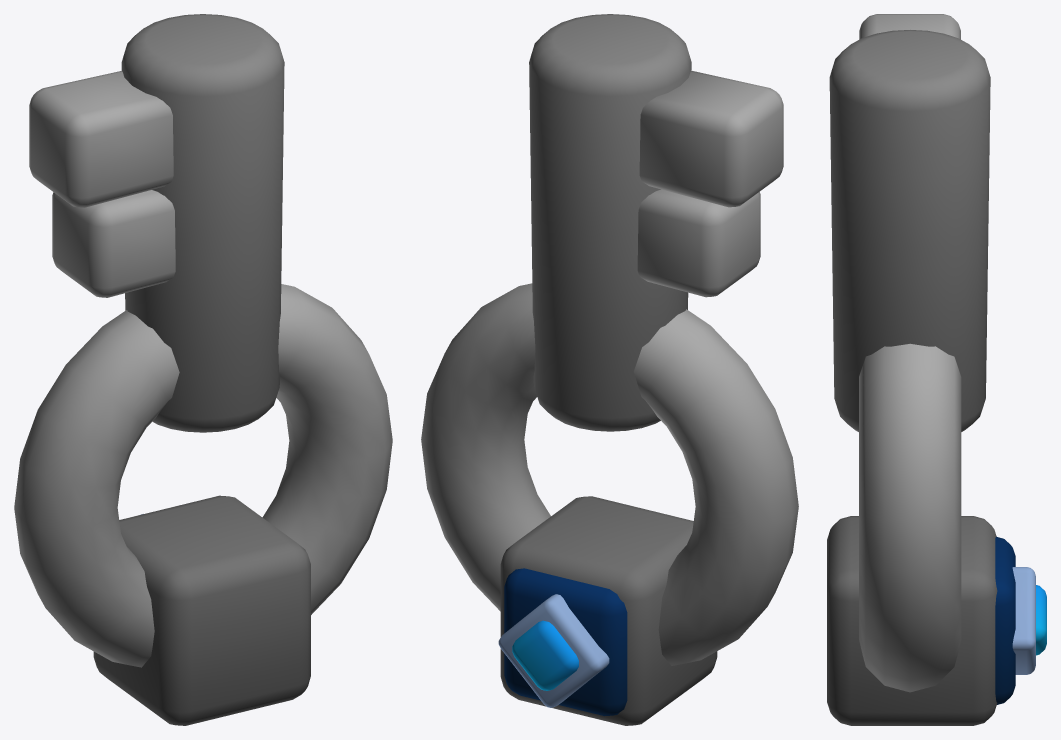
Rendered from Key_V1_0.fbx.
The picture shows the model from 3 angles, left to right: view 1: azimuth 30°, elevation 25°; view 2: azimuth 150°, elevation 25°; view 3: azimuth 270°, elevation 25°; orthographic projection.
Parts seen in each view (by area): view 1: Key_V1_0; view 2: Key_V1_0; view 3: Key_V1_0.
Part boxes in pixels (box(x1,y1,x2,y2)): Key_V1_0: box(14, 14, 392, 725); Key_V1_0: box(421, 14, 798, 725); Key_V1_0: box(827, 14, 1046, 725).
Size of the model in its own units: 0.2821 by 0.4802 by 0.1489.
